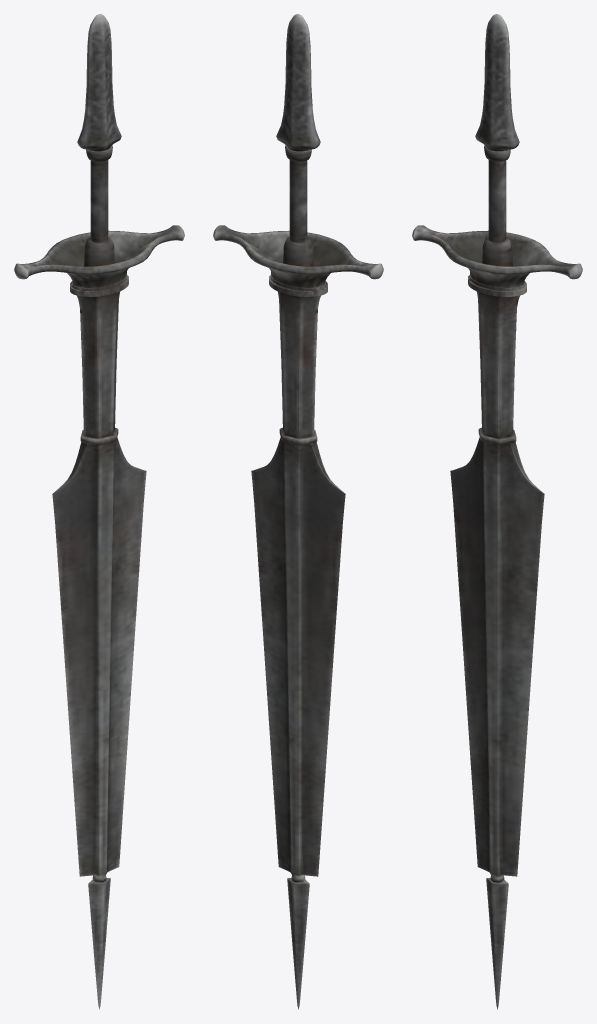
Rendered from weapon-wp_a_0634.glb.
3 views of the same model, side by side, from view 1: azimuth 30°, elevation 25°; view 2: azimuth 150°, elevation 25°; view 3: azimuth 330°, elevation 25° (orthographic).
Parts seen in each view (by area): view 1: wp_a_0634_mesh; view 2: wp_a_0634_mesh; view 3: wp_a_0634_mesh.
Part boxes in pixels (<box>): wp_a_0634_mesh: <box>14,14,184,1009</box>; wp_a_0634_mesh: <box>213,14,383,1009</box>; wp_a_0634_mesh: <box>412,14,582,1009</box>.
Size of the model in its own units: 0.3585 by 2.03 by 0.157.
Materials: 1 (1 with a texture image).
